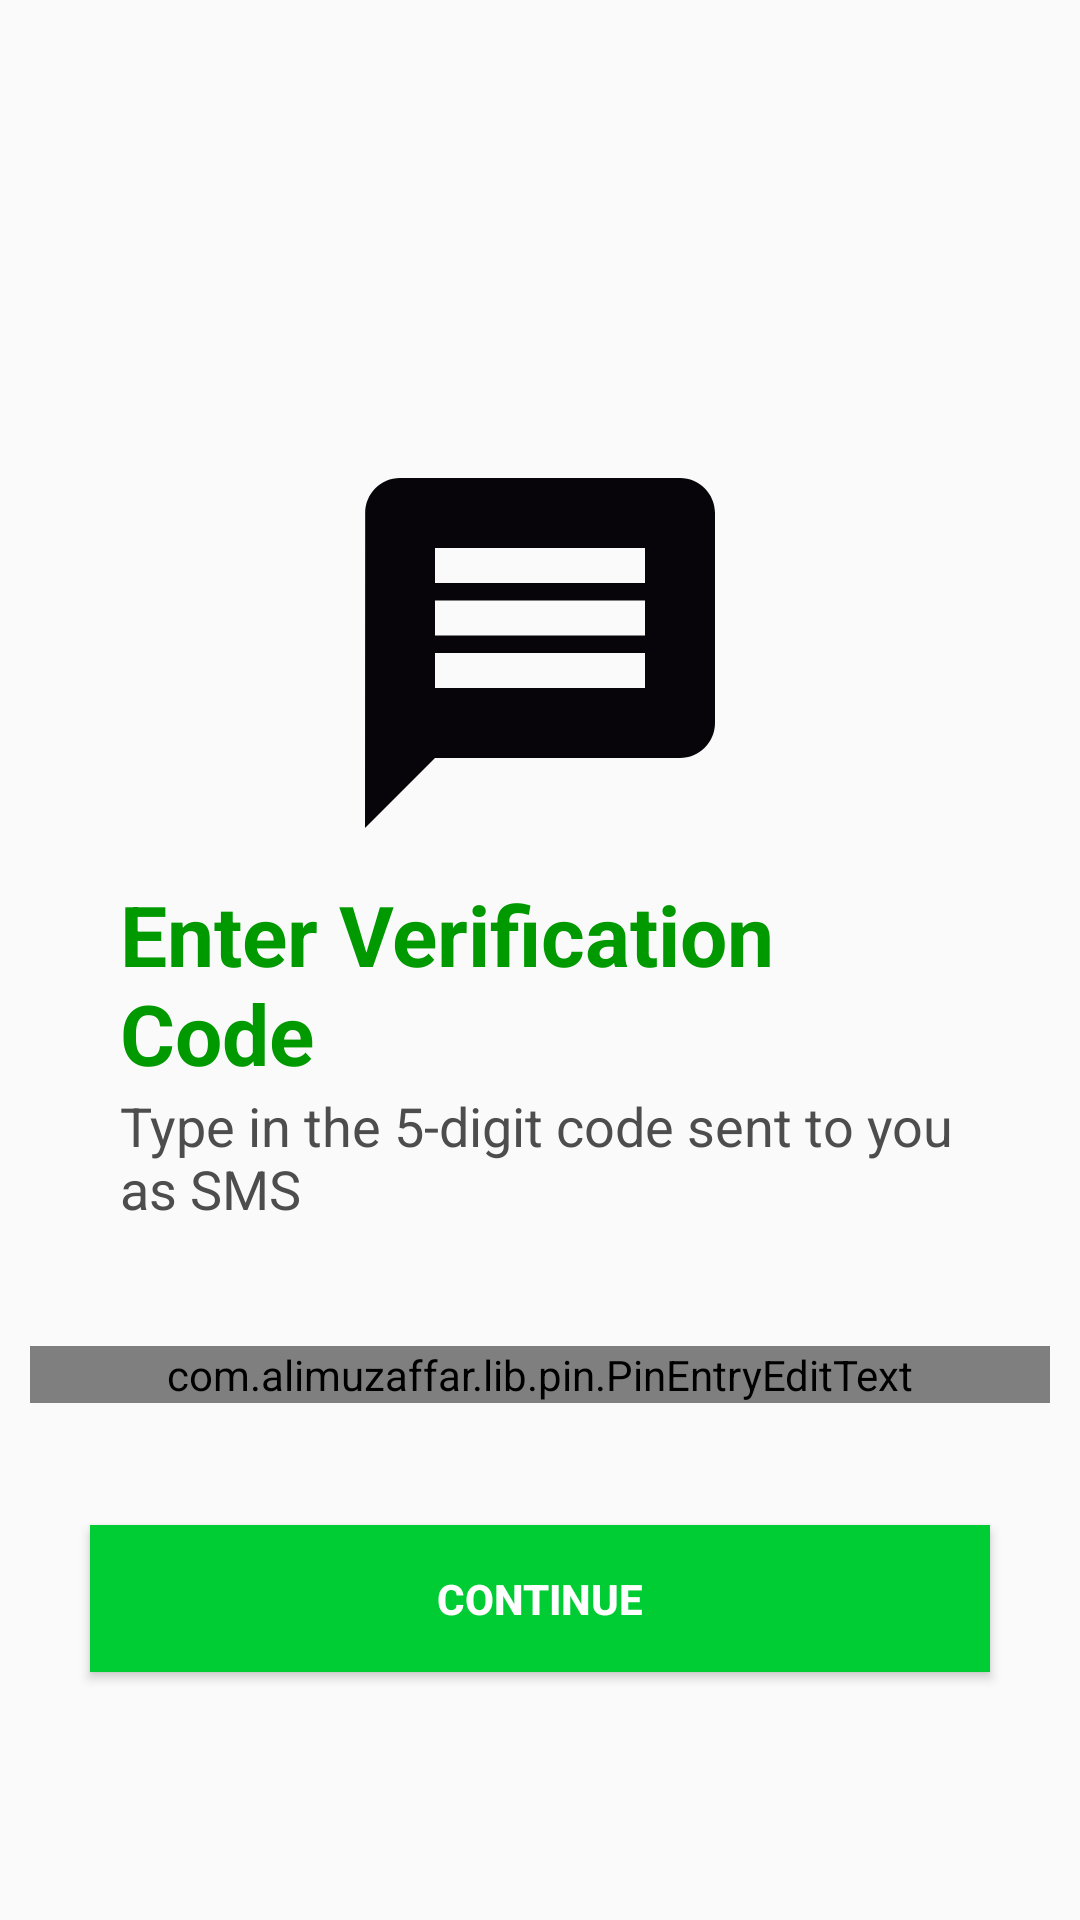

Point at icon controls on the screen. Image size 1080*1920, points as [x,y].
message: [540,653]
